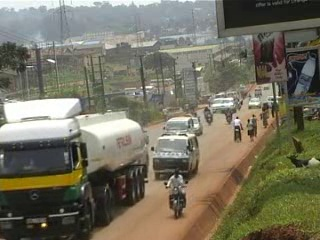Car: (189, 114, 204, 137), (222, 94, 237, 112), (247, 93, 262, 111), (210, 95, 223, 114)
Motorcycle: (162, 167, 190, 220), (223, 106, 233, 126), (234, 94, 244, 111), (206, 109, 214, 127), (202, 102, 209, 120)
